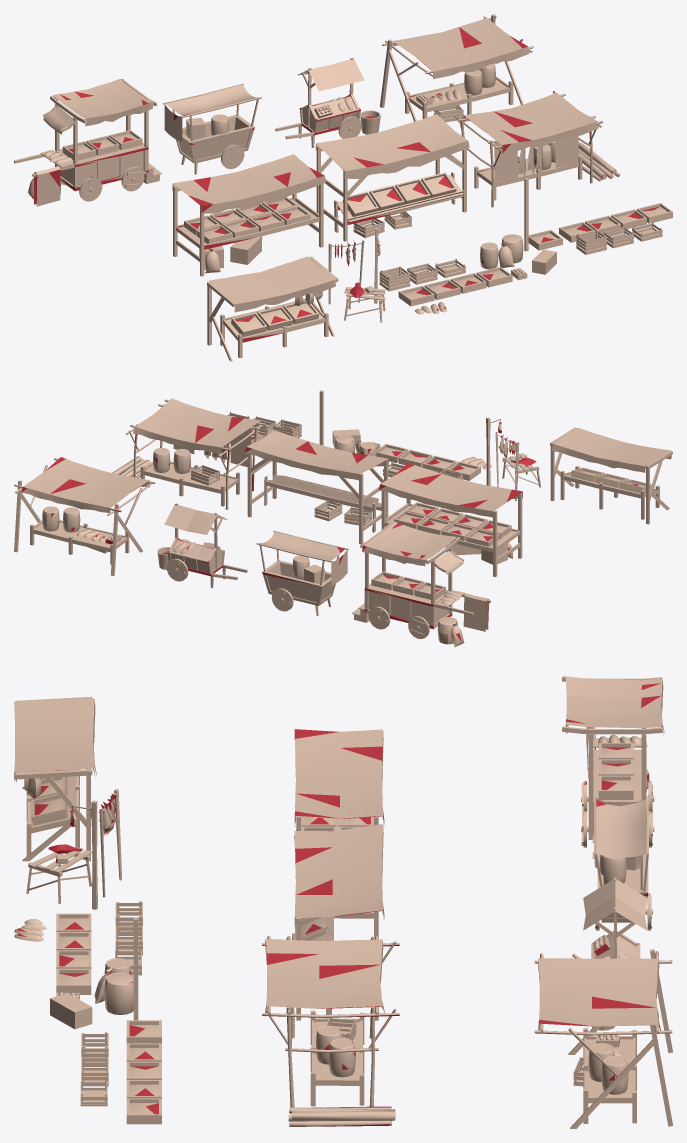
3 views of the same model, one above another, from view 1: azimuth 30°, elevation 25°; view 2: azimuth 150°, elevation 25°; view 3: azimuth 270°, elevation 25° (orthographic). The views are drawn at different scales.
Parts seen in each view (by area): view 1: 000-0-0.006, 000-0-0.007, 000-0-0.001, 000-0-0, 000-0-0.005, 000-0-0.004, 000-0-0.008, 000-0-0.002, 000-0-0.003, 000-0-0.009; view 2: 000-0-0.001, 000-0-0.007, 000-0-0.005, 000-0-0.004, 000-0-0.006, 000-0-0.008, 000-0-0.002, 000-0-0, 000-0-0.003, 000-0-0.009; view 3: 000-0-0.005, 000-0-0.004, 000-0-0, 000-0-0.001, 000-0-0.008, 000-0-0.006, 000-0-0.007, 000-0-0.002, 000-0-0.003, 000-0-0.009.
Boxes of the visible parts, x1,y1,x2,y2 form: 000-0-0.006: [315, 114, 469, 241]; 000-0-0.007: [172, 154, 325, 276]; 000-0-0.001: [14, 78, 162, 206]; 000-0-0: [379, 178, 672, 314]; 000-0-0.005: [454, 91, 620, 207]; 000-0-0.004: [380, 14, 533, 122]; 000-0-0.008: [207, 256, 338, 361]; 000-0-0.002: [163, 83, 261, 174]; 000-0-0.003: [275, 57, 380, 147]; 000-0-0.009: [328, 228, 385, 322]; 000-0-0.001: [351, 521, 490, 647]; 000-0-0.007: [378, 463, 522, 576]; 000-0-0.005: [112, 398, 265, 509]; 000-0-0.004: [14, 457, 155, 575]; 000-0-0.006: [244, 430, 388, 544]; 000-0-0.008: [550, 427, 672, 524]; 000-0-0.002: [256, 530, 348, 615]; 000-0-0: [227, 390, 491, 480]; 000-0-0.003: [157, 503, 247, 588]; 000-0-0.009: [486, 417, 541, 501]; 000-0-0.005: [262, 936, 399, 1126]; 000-0-0.004: [534, 949, 672, 1128]; 000-0-0: [14, 901, 161, 1124]; 000-0-0.001: [562, 676, 664, 867]; 000-0-0.008: [14, 696, 96, 861]; 000-0-0.006: [292, 824, 384, 1020]; 000-0-0.007: [294, 729, 384, 845]; 000-0-0.002: [594, 797, 652, 930]; 000-0-0.003: [583, 877, 647, 1030]; 000-0-0.009: [26, 789, 121, 909].
Bounding box in the file's own units: 5109 × 978 × 4126.
